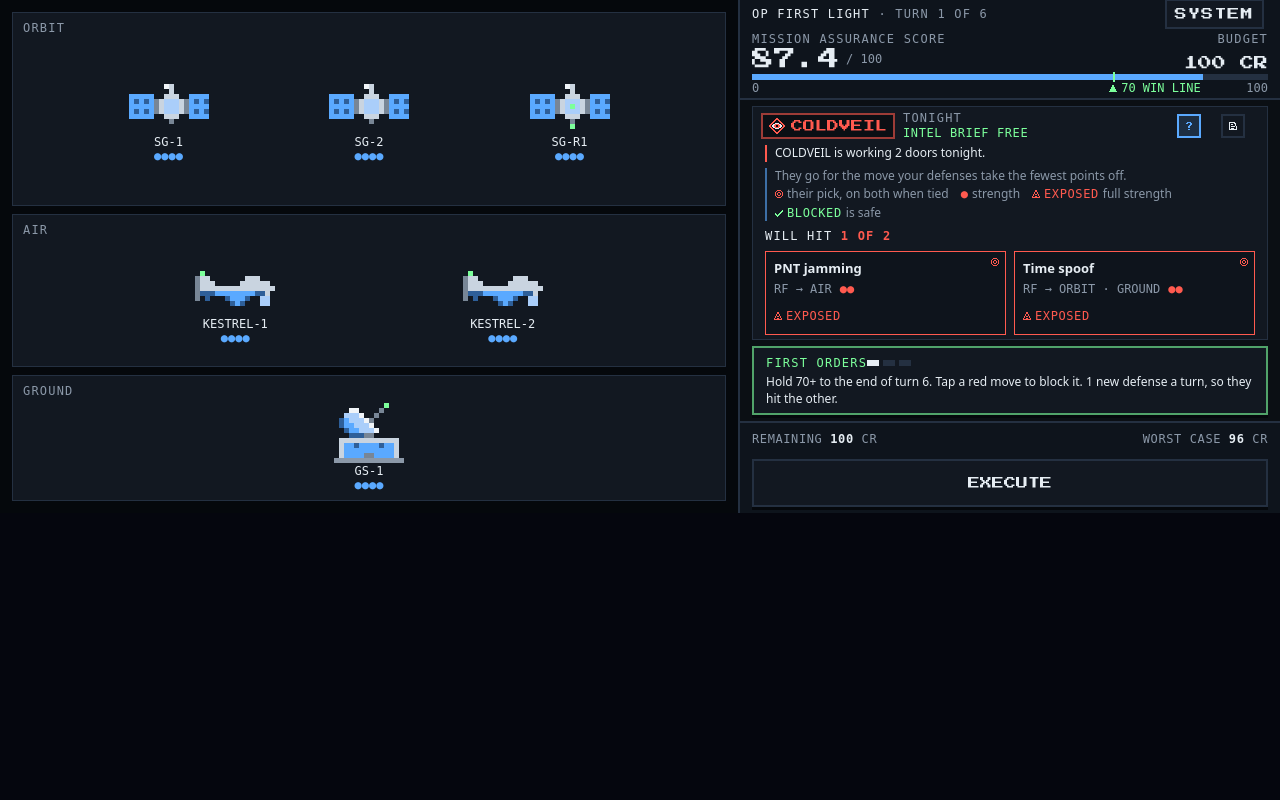
Test: the operation ends on its last END OF TURN, from the player-s starting state (Round 5) › shows no ending on an ordinary END OF TURN
What coordinates should you click on to do the following:
click the button "EXECUTE"
I would click on:
 (1010, 483)
Its box is top-left (752, 459), bottom-right (1268, 507).
Wait 3600 ms
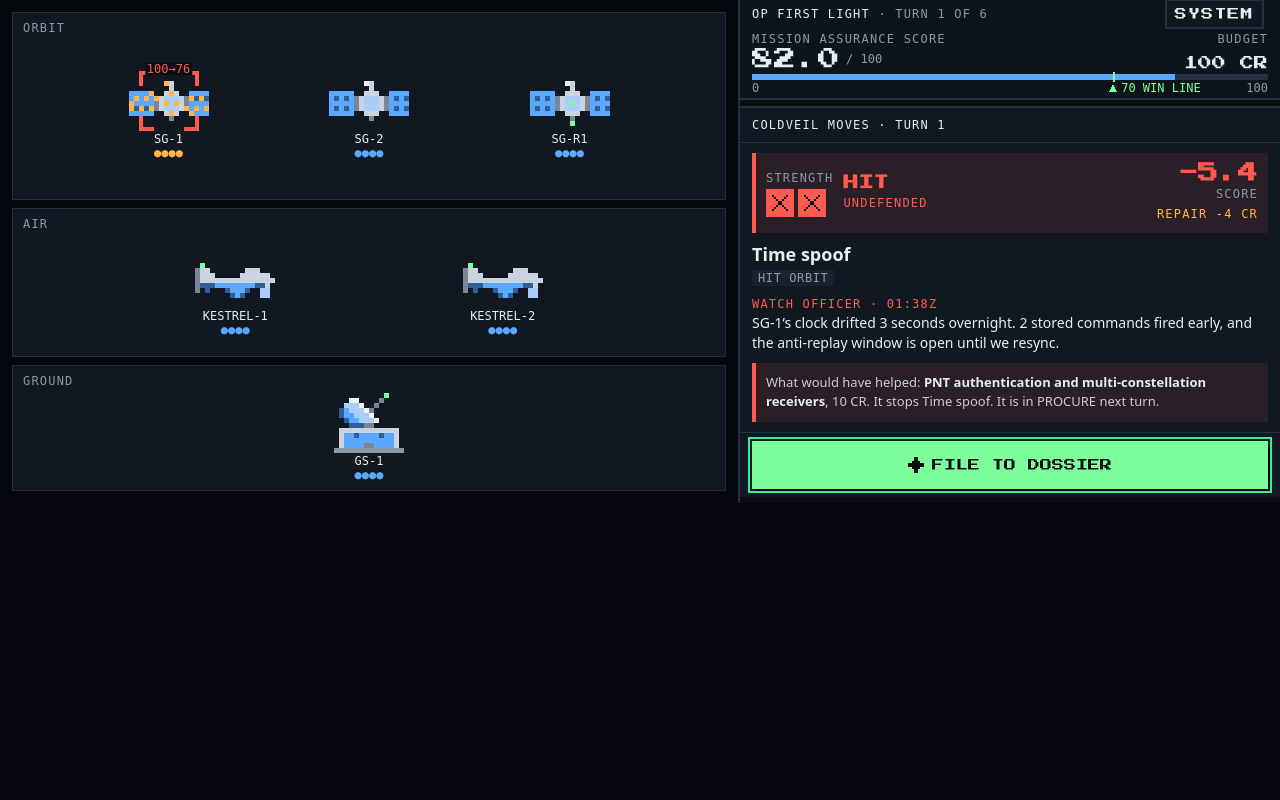
What coordinates should you click on to do the following:
click the button "FILE TO DOSSIER"
I would click on:
 (1010, 465)
Its box is top-left (752, 441), bottom-right (1268, 489).
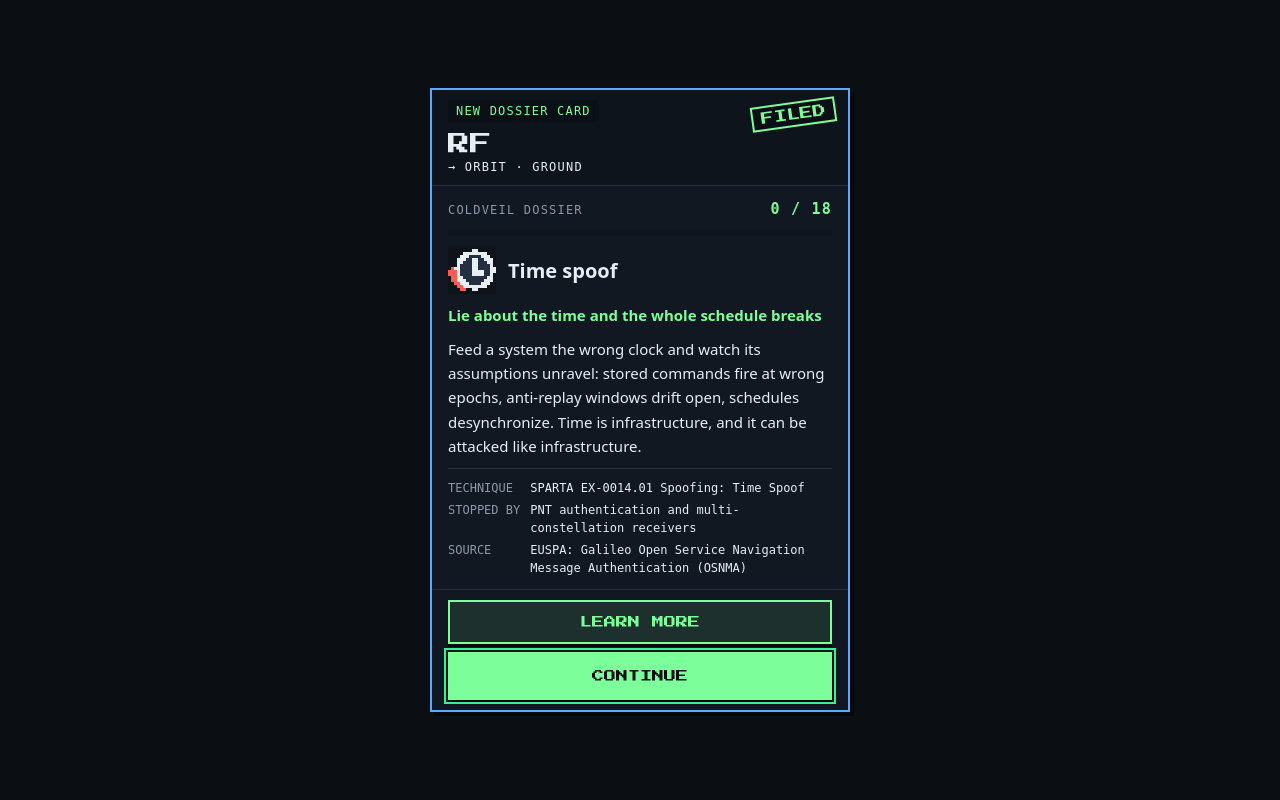
What coordinates should you click on to do the following:
click the button "CONTINUE"
I would click on:
 (640, 676)
Its box is top-left (448, 652), bottom-right (832, 700).
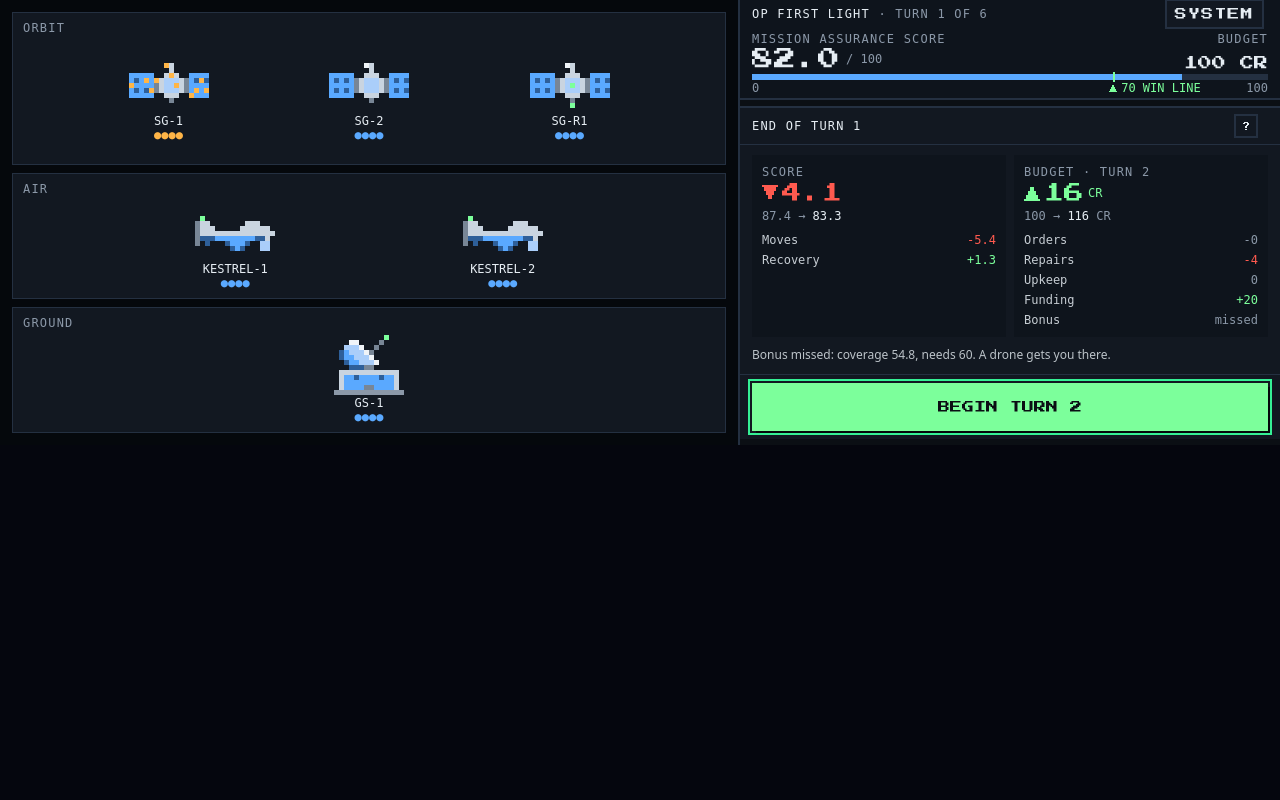
Check: the element named "END OF TURN 1" is shown, box top-left (740, 106), bottom-right (1279, 438)
Check: the button "BEGIN TURN 2" is shown, box top-left (752, 382), bottom-right (1268, 430)
